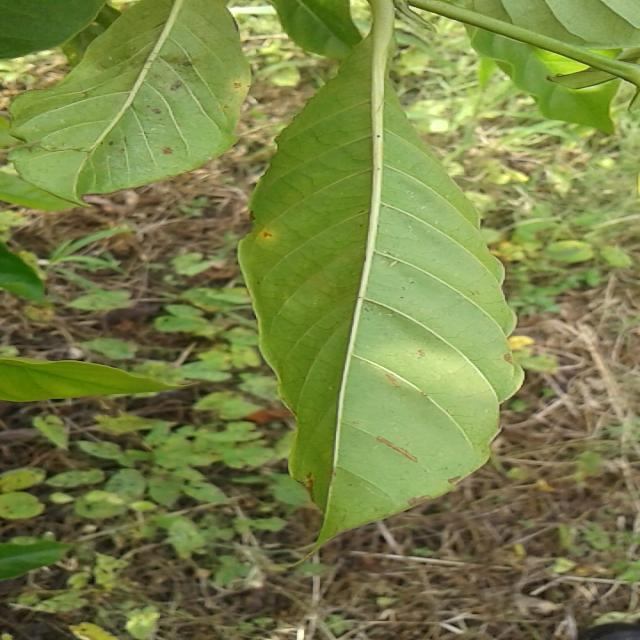Enfermedad-Roya: (237, 0, 526, 548)
